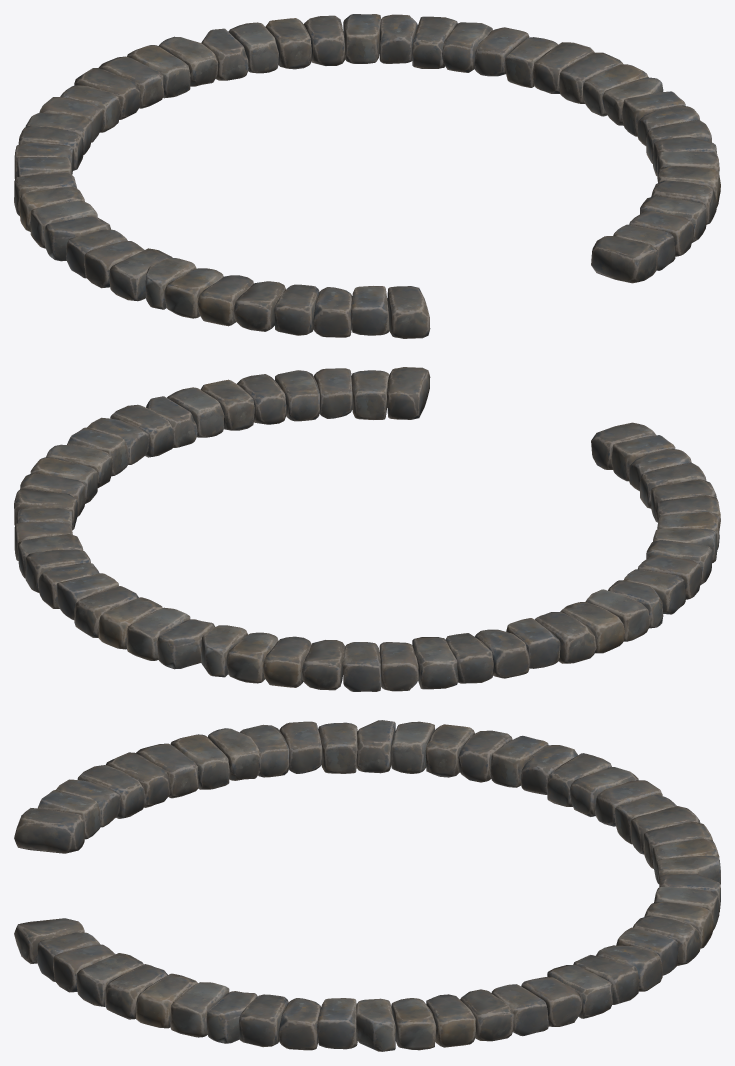
The model's file is mesh_blockRound01.fbx.
The picture shows the model from 3 angles, top to bottom: view 1: azimuth 30°, elevation 25°; view 2: azimuth 150°, elevation 25°; view 3: azimuth 270°, elevation 25°; orthographic projection. The views are drawn at different scales.
Parts seen in each view (by area): view 1: blocks_032, blocks_030, blocks_033, blocks_028, blocks_029, blocks_034, blocks_031, blocks_035; view 2: blocks_028, blocks_029, blocks_032, blocks_034, blocks_030, blocks_033, blocks_035, blocks_031; view 3: blocks_034, blocks_033, blocks_030, blocks_029, blocks_032, blocks_028, blocks_031, blocks_035.
Boxes of the visible parts, x1=… form: blocks_032: x1=201, y1=14, x2=457, y2=80; blocks_030: x1=66, y1=229, x2=285, y2=331; blocks_033: x1=442, y1=22, x2=663, y2=125; blocks_028: x1=25, y1=36, x2=218, y2=154; blocks_029: x1=14, y1=125, x2=110, y2=261; blocks_034: x1=622, y1=91, x2=720, y2=224; blocks_031: x1=274, y1=284, x2=430, y2=338; blocks_035: x1=591, y1=196, x2=706, y2=283; blocks_028: x1=201, y1=625, x2=457, y2=691; blocks_029: x1=445, y1=580, x2=663, y2=683; blocks_032: x1=25, y1=549, x2=215, y2=669; blocks_034: x1=67, y1=374, x2=286, y2=476; blocks_030: x1=624, y1=479, x2=720, y2=614; blocks_033: x1=14, y1=444, x2=112, y2=578; blocks_035: x1=275, y1=367, x2=430, y2=421; blocks_031: x1=591, y1=422, x2=706, y2=508; blocks_034: x1=105, y1=964, x2=357, y2=1050; blocks_033: x1=356, y1=964, x2=612, y2=1051; blocks_030: x1=105, y1=721, x2=357, y2=807; blocks_029: x1=356, y1=720, x2=611, y2=806; blocks_032: x1=573, y1=873, x2=720, y2=1004; blocks_028: x1=569, y1=767, x2=720, y2=885; blocks_031: x1=14, y1=765, x2=146, y2=853; blocks_035: x1=14, y1=918, x2=143, y2=1006.
Bounding box in the file's own units: 714 × 36.09 × 696.
